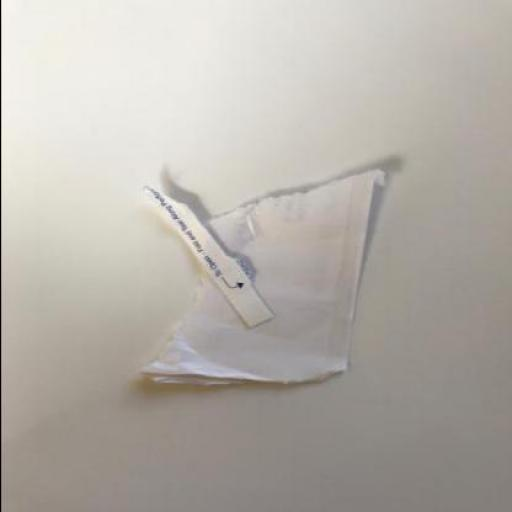paper: (124, 167, 387, 383)
